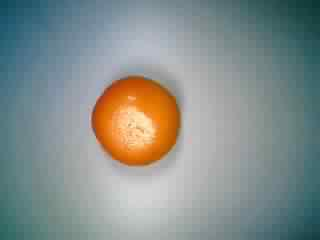orange: (85, 71, 182, 167)
